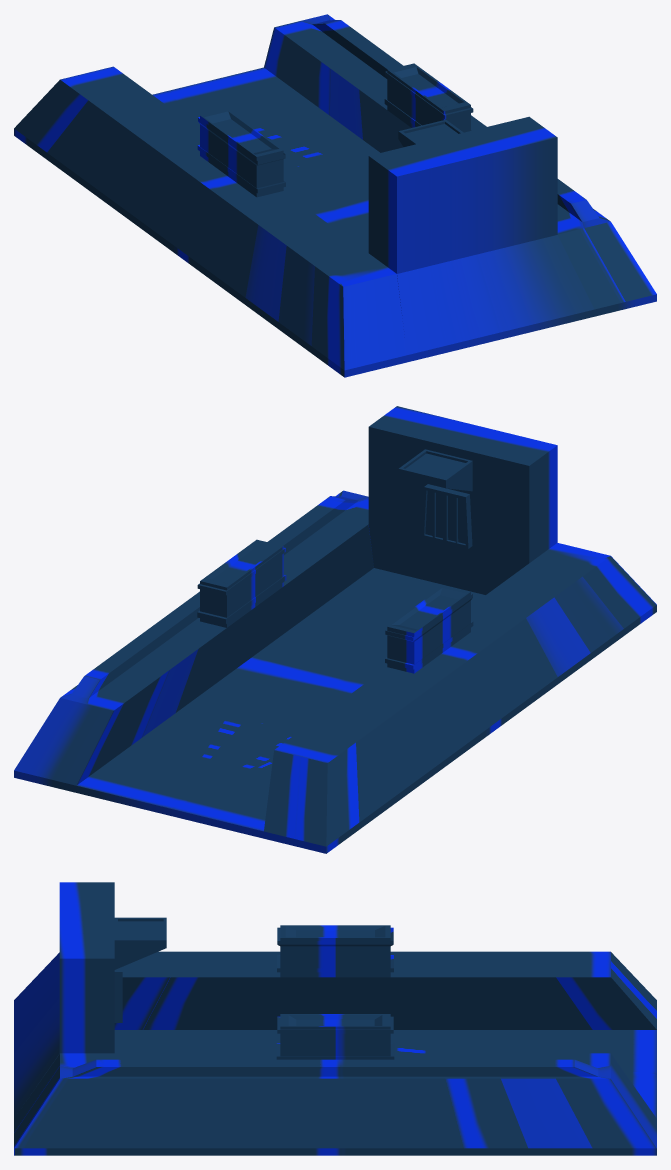
The model's file is mapa base.fbx.
The picture shows the model from 3 angles, top to bottom: view 1: azimuth 30°, elevation 25°; view 2: azimuth 150°, elevation 25°; view 3: azimuth 270°, elevation 25°; orthographic projection. The views are drawn at different scales.
Parts seen in each view (by area): view 1: pPlane1; view 2: pPlane1; view 3: pPlane1.
Boxes of the visible parts, box(x1,y1,x2,y2) form: pPlane1: box(14, 14, 656, 377); pPlane1: box(14, 406, 656, 853); pPlane1: box(14, 882, 656, 1155).
Bounding box in the file's own units: 19.83 × 10.03 × 36.37.
